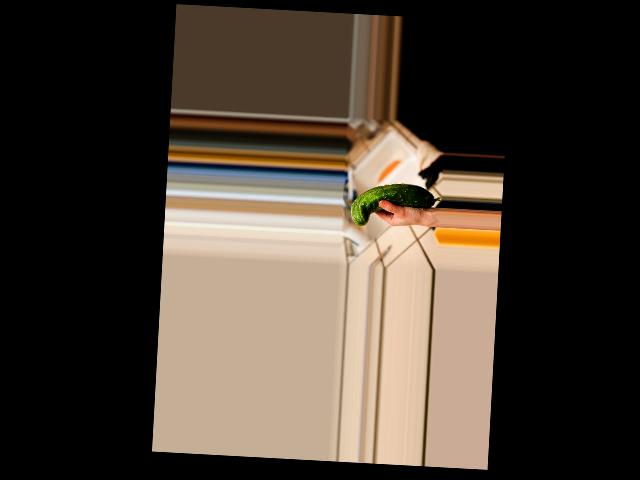cucumber: (350, 180, 441, 229)
